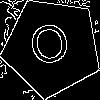O: (27, 22, 74, 74)
